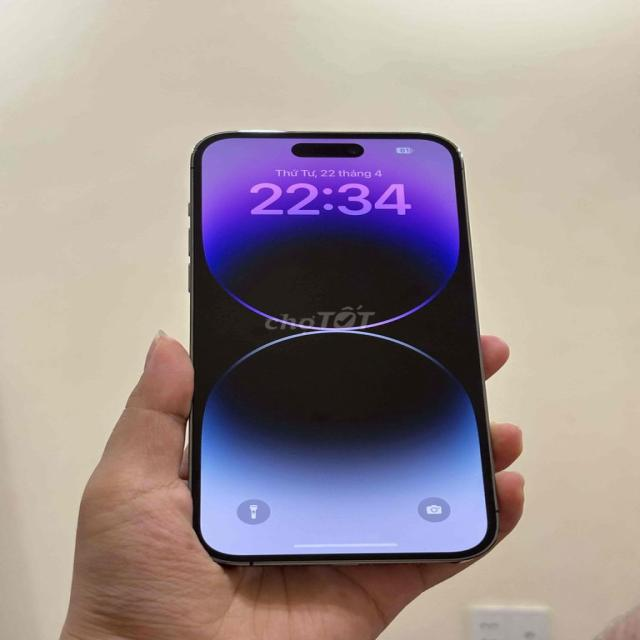gen_14: (176, 116, 511, 572)
